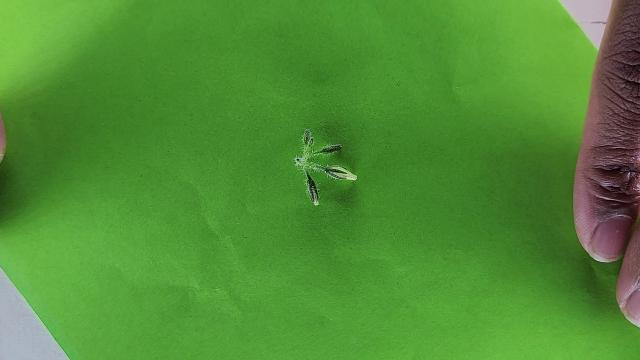Flower Bud: (322, 165, 357, 181), (304, 169, 319, 206), (315, 143, 343, 154)
